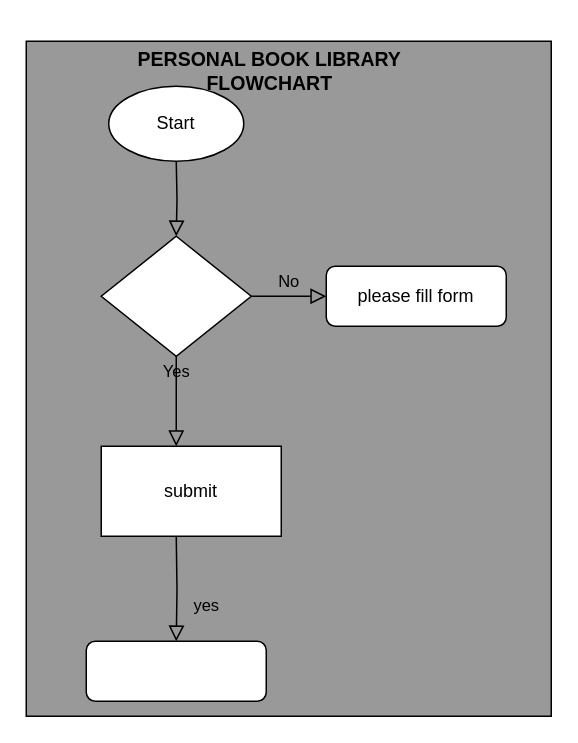
The diagram is 578 pixels wide and 743 high, and some of its shapes have lost their labels. Here are the shapes that lost their labels. From the top down, the centre of each, then its label:
pixel 175 295: Enter book details
pixel 175 670: display books
